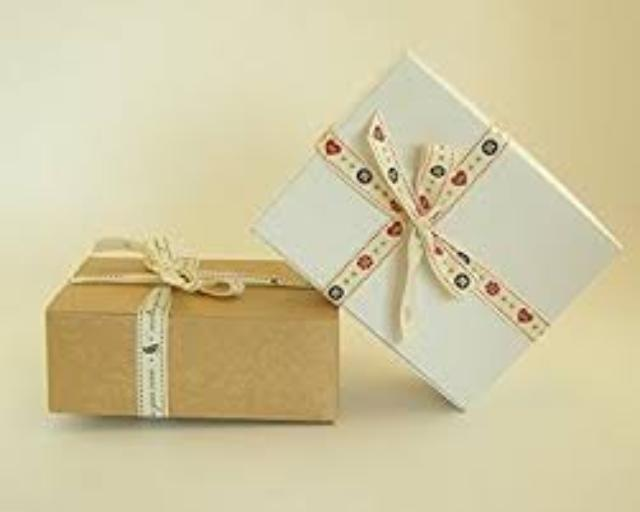cardboard paper: (250, 51, 615, 403), (43, 237, 334, 416)
